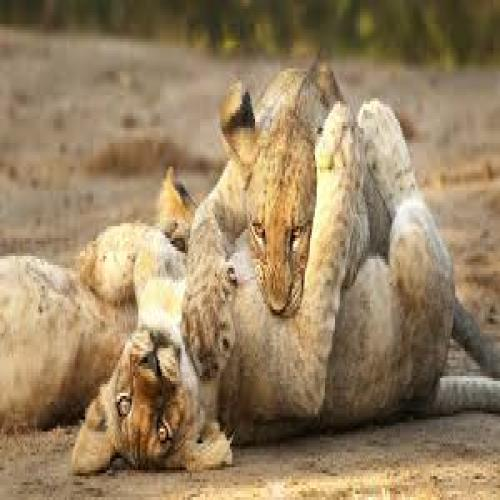lion-endangered: (70, 107, 496, 477), (181, 65, 495, 387), (0, 163, 201, 427)
